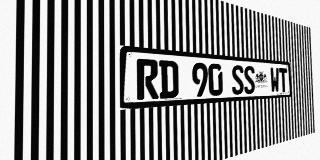0: (208, 63, 223, 96)
9: (192, 62, 208, 97)
D: (159, 60, 179, 99)
R: (136, 58, 159, 100)
S: (231, 65, 244, 95), (244, 65, 255, 94)
T: (279, 68, 288, 92)
W: (270, 67, 280, 93)
